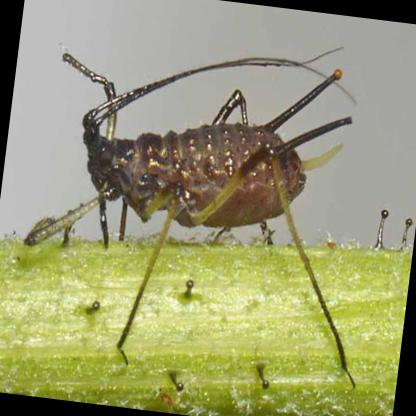uroleucon compositae: (81, 70, 350, 243)
